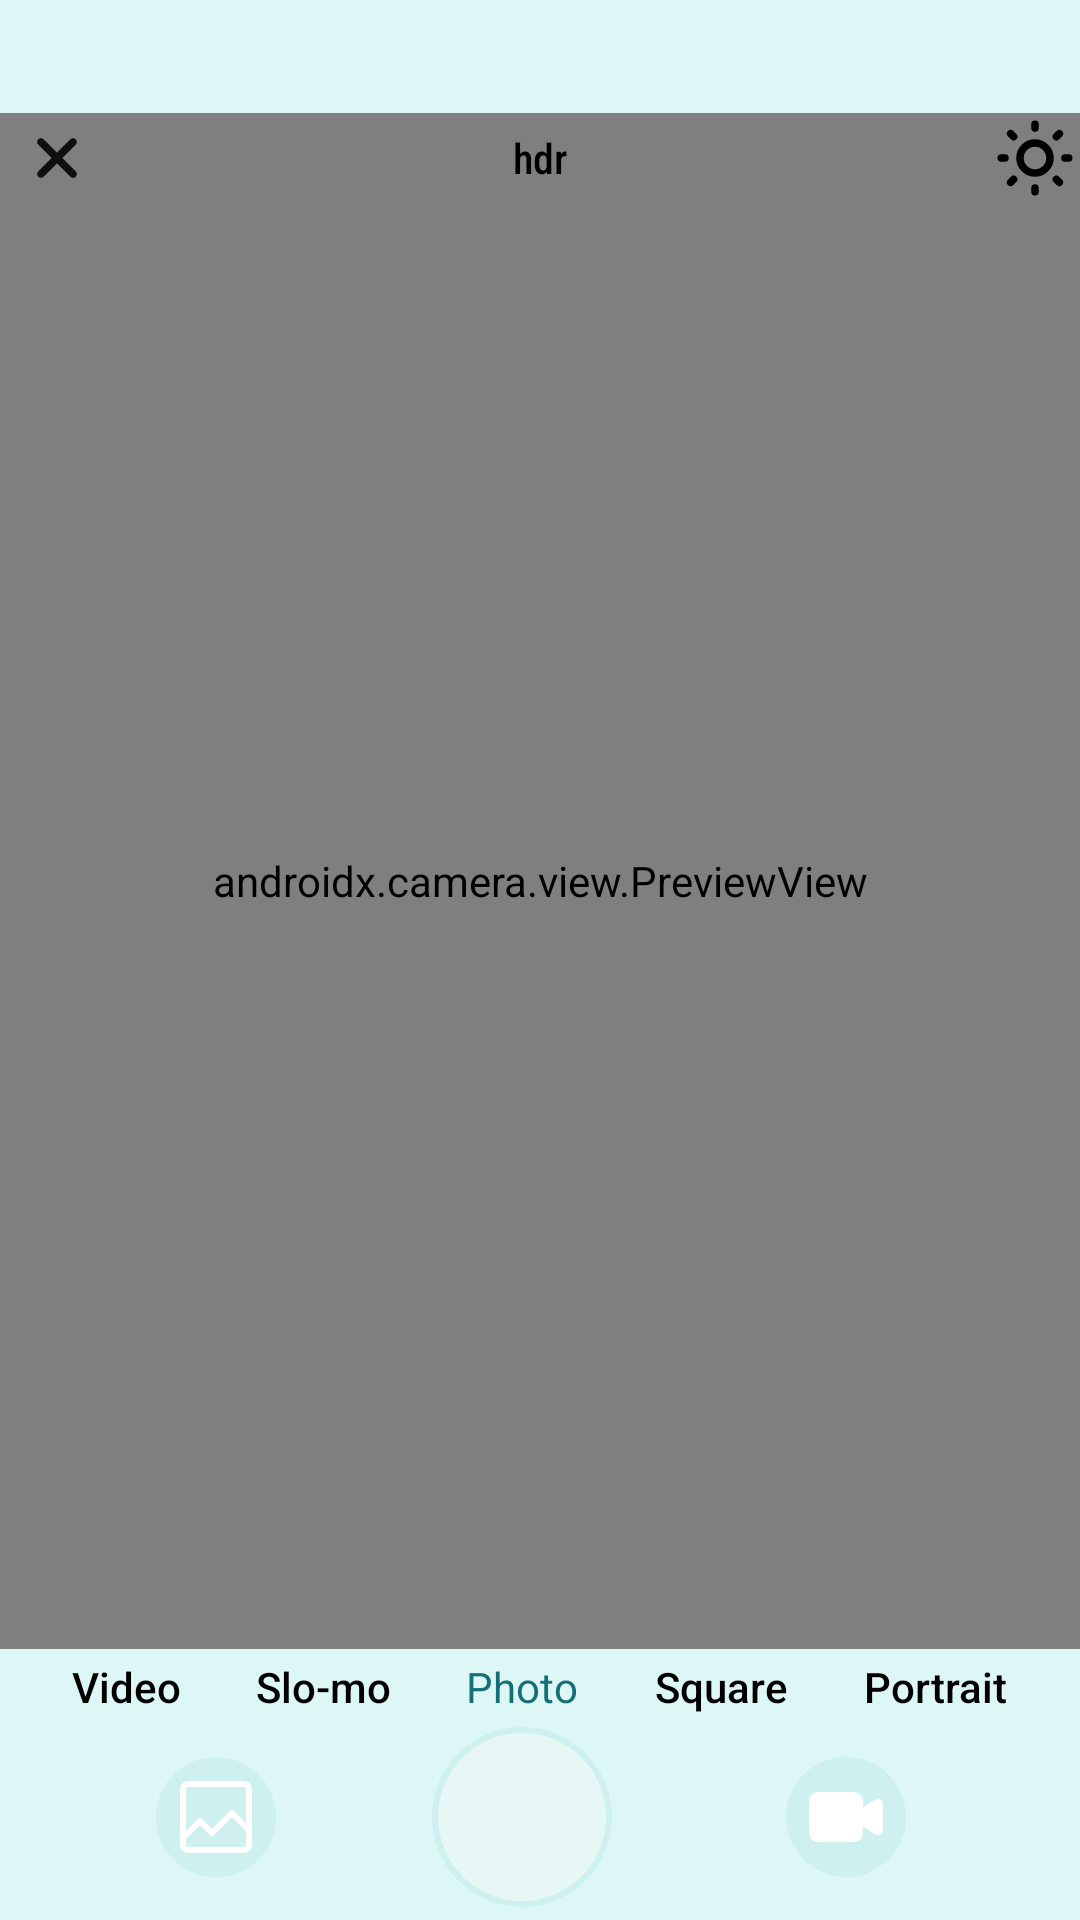

Point at icon controls on the screen. Image size 1080 × 1920, points as (x,y).
cross: (57,158)
gallery: (216,1817)
sun: (1035,158)
videocall: (846,1817)
